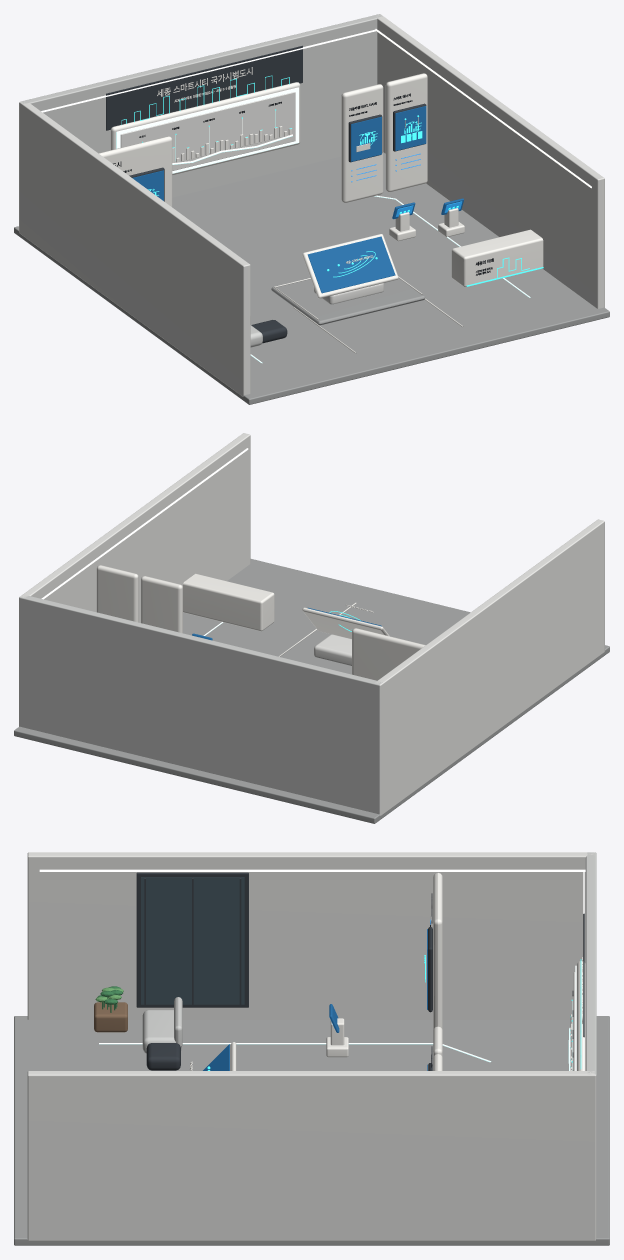
Rendered from sejong-smartcity-exhibition-ChjySSTf.glb.
3 renders of one model, top to bottom at view 1: azimuth 30°, elevation 25°; view 2: azimuth 150°, elevation 25°; view 3: azimuth 270°, elevation 25°, orthographic. The views are drawn at different scales.
Parts seen in each view (by area): view 1: Exhibition_Floor, Left_Wall, Right_Wall, Back_Wall, Main_Title_Backdrop, Future_Map_Surface, Future_Counter, Energy_Wall, Mobility_Wall, Central_Table_Screen, Central_Table_Platform, AI_Exhibit_Wall (+9 smaller); view 2: Back_Wall, Left_Wall, Right_Wall, Exhibition_Floor, Future_Counter, AI_Exhibit_Wall, Energy_Wall, Mobility_Wall, Central_Table_Frame, Central_Table_Platform, Central_Table_Base, Right_Cove_Light; view 3: Right_Wall, Left_Wall, Exhibition_Floor, Left_Window_Frame, Left_Window_Glass, Back_Wall, Left_Cove_Light, AI_Exhibit_Wall, Lounge_Sofa_Left, Future_Map_Frame, Planter, Lounge_Ottoman (+1 smaller).
Part boxes in pixels (left/top/right/bottom): Exhibition_Floor: left=14, top=152, right=609, bottom=404; Left_Wall: left=19, top=101, right=250, bottom=396; Right_Wall: left=375, top=14, right=604, bottom=308; Back_Wall: left=20, top=14, right=382, bottom=197; Main_Title_Backdrop: left=106, top=45, right=302, bottom=130; Future_Map_Surface: left=120, top=92, right=295, bottom=170; Future_Counter: left=451, top=229, right=543, bottom=287; Energy_Wall: left=385, top=73, right=427, bottom=192; Mobility_Wall: left=341, top=84, right=383, bottom=202; Central_Table_Screen: left=307, top=236, right=395, bottom=293; Central_Table_Platform: left=271, top=278, right=425, bottom=325; AI_Exhibit_Wall: left=99, top=136, right=172, bottom=206; Back_Wall: left=19, top=596, right=382, bottom=814; Left_Wall: left=375, top=519, right=604, bottom=815; Right_Wall: left=19, top=433, right=250, bottom=726; Exhibition_Floor: left=14, top=559, right=609, bottom=823; Future_Counter: left=183, top=573, right=274, bottom=631; AI_Exhibit_Wall: left=352, top=628, right=425, bottom=680; Energy_Wall: left=96, top=565, right=138, bottom=622; Mobility_Wall: left=141, top=576, right=182, bottom=633; Central_Table_Frame: left=302, top=607, right=389, bottom=638; Central_Table_Platform: left=280, top=630, right=351, bottom=674; Central_Table_Base: left=314, top=634, right=351, bottom=665; Right_Cove_Light: left=41, top=448, right=248, bottom=599; Right_Wall: left=27, top=1071, right=596, bottom=1241; Left_Wall: left=27, top=852, right=594, bottom=1019; Exhibition_Floor: left=14, top=1016, right=609, bottom=1245; Left_Window_Frame: left=136, top=872, right=248, bottom=1007; Left_Window_Glass: left=141, top=877, right=244, bottom=1004; Back_Wall: left=585, top=852, right=596, bottom=1237; Left_Cove_Light: left=39, top=869, right=585, bottom=871; AI_Exhibit_Wall: left=433, top=872, right=442, bottom=1029; Lounge_Sofa_Left: left=142, top=1010, right=181, bottom=1053; Future_Map_Frame: left=577, top=960, right=585, bottom=1070; Planter: left=94, top=1002, right=127, bottom=1032; Lounge_Ottoman: left=146, top=1043, right=180, bottom=1070.
Bounding box in the file's own units: 31.04 × 11.1 × 35.
